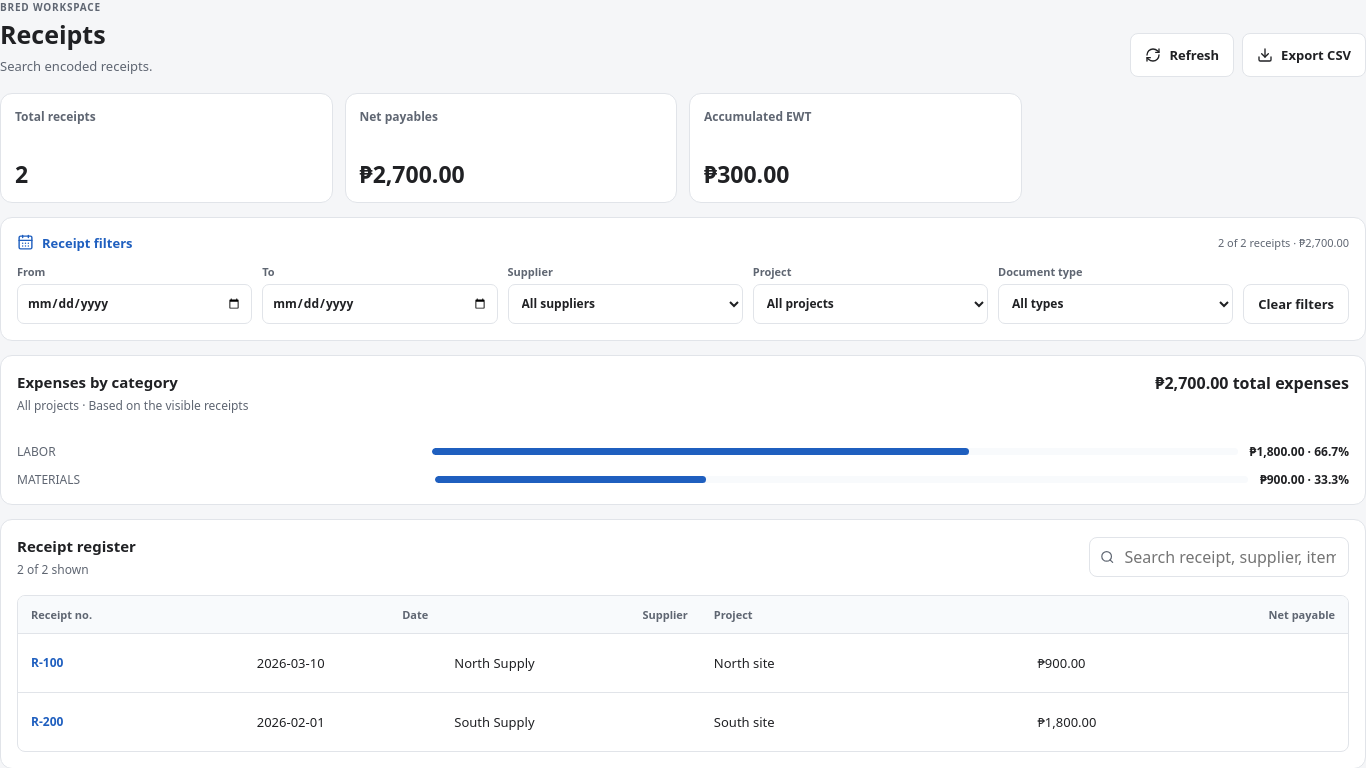
Test: ModuleWorkspace › filters receipts by date and supplier and opens real receipt details
Expected: the button named "View receipt R-100" is shown, x1=31 y1=645 x2=63 y2=681
Expected: the button named "View receipt R-200" is shown, x1=31 y1=704 x2=63 y2=740
Type "2026-03-01" into the date field named "Receipt date from" at (135,304), box x1=17 y1=284 x2=252 y2=324
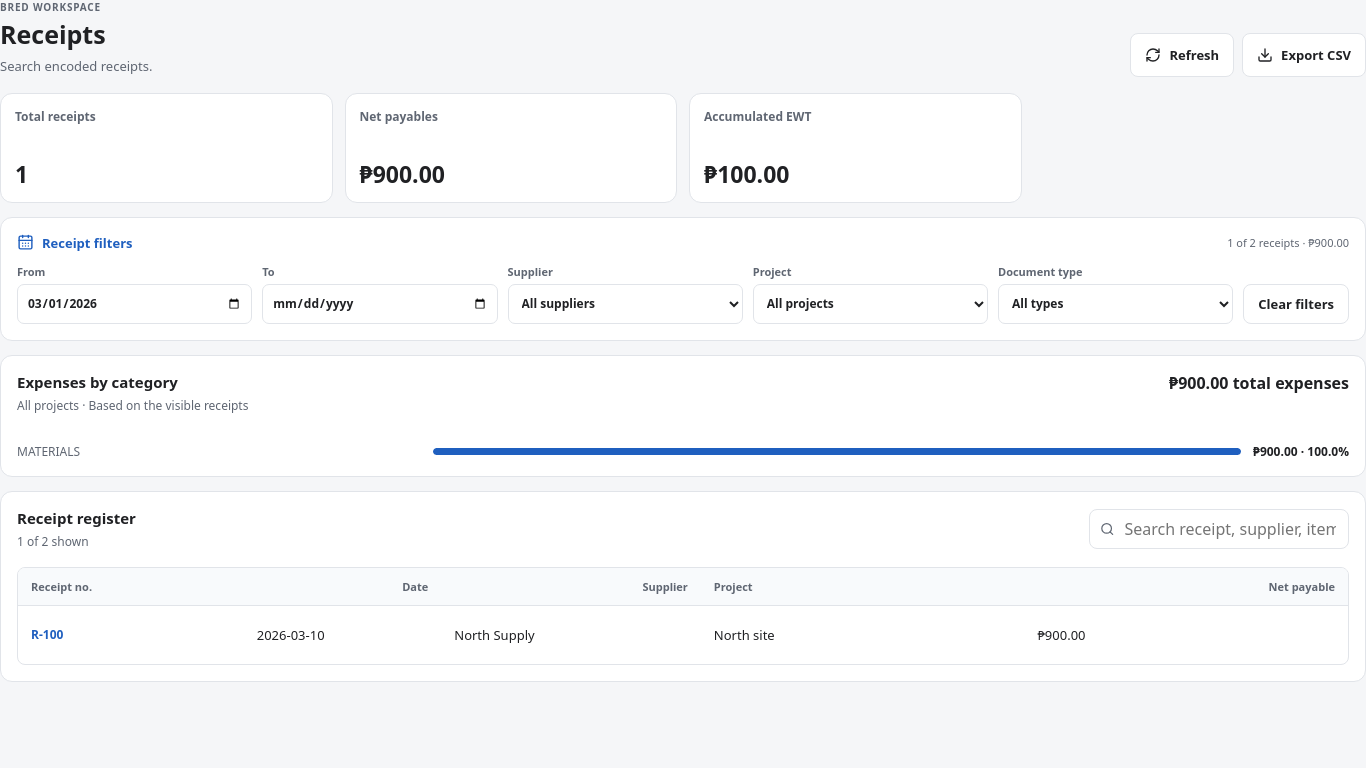
Select "North Supply" in the dropdown named "Filter by supplier" at (625,304), box x1=508 y1=284 x2=743 y2=324
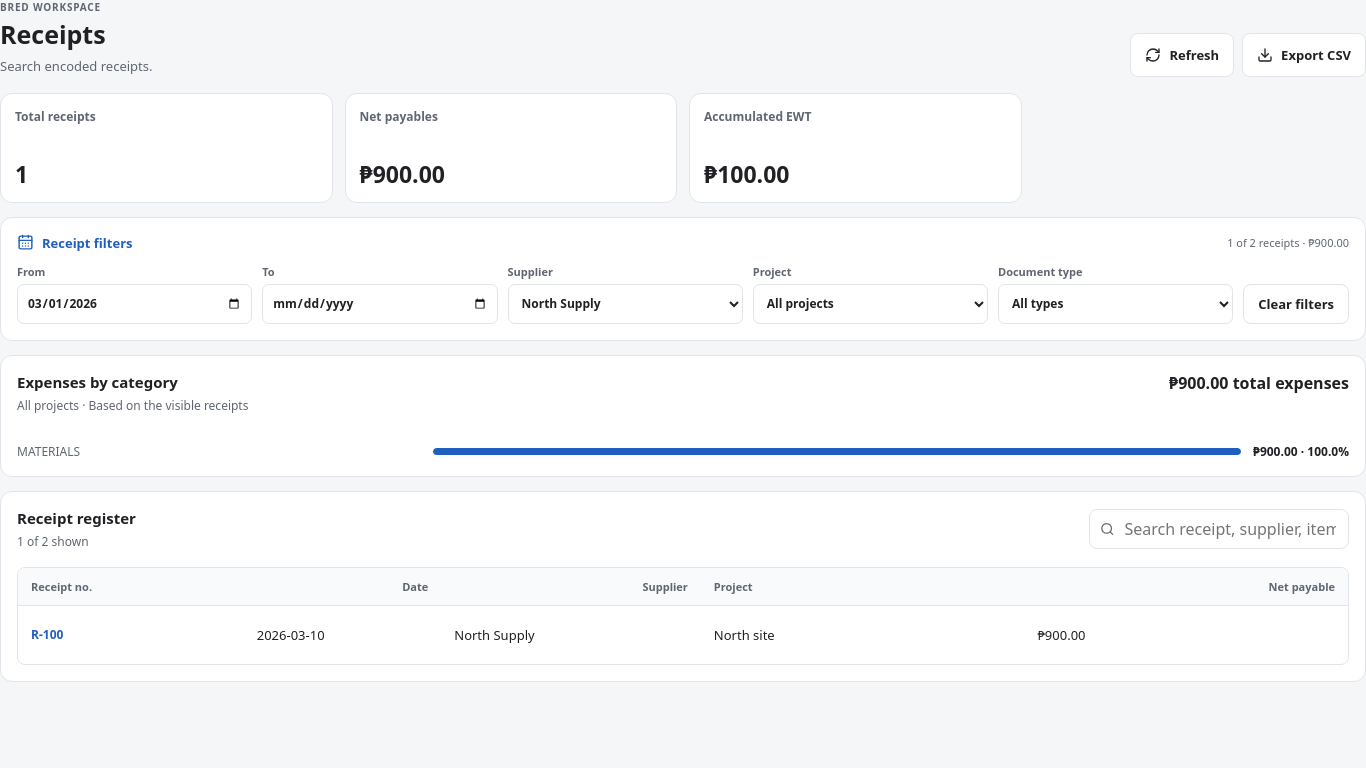
Click the button named "View receipt R-100" at (47,635), box x1=31 y1=617 x2=63 y2=653
(page scrolled)
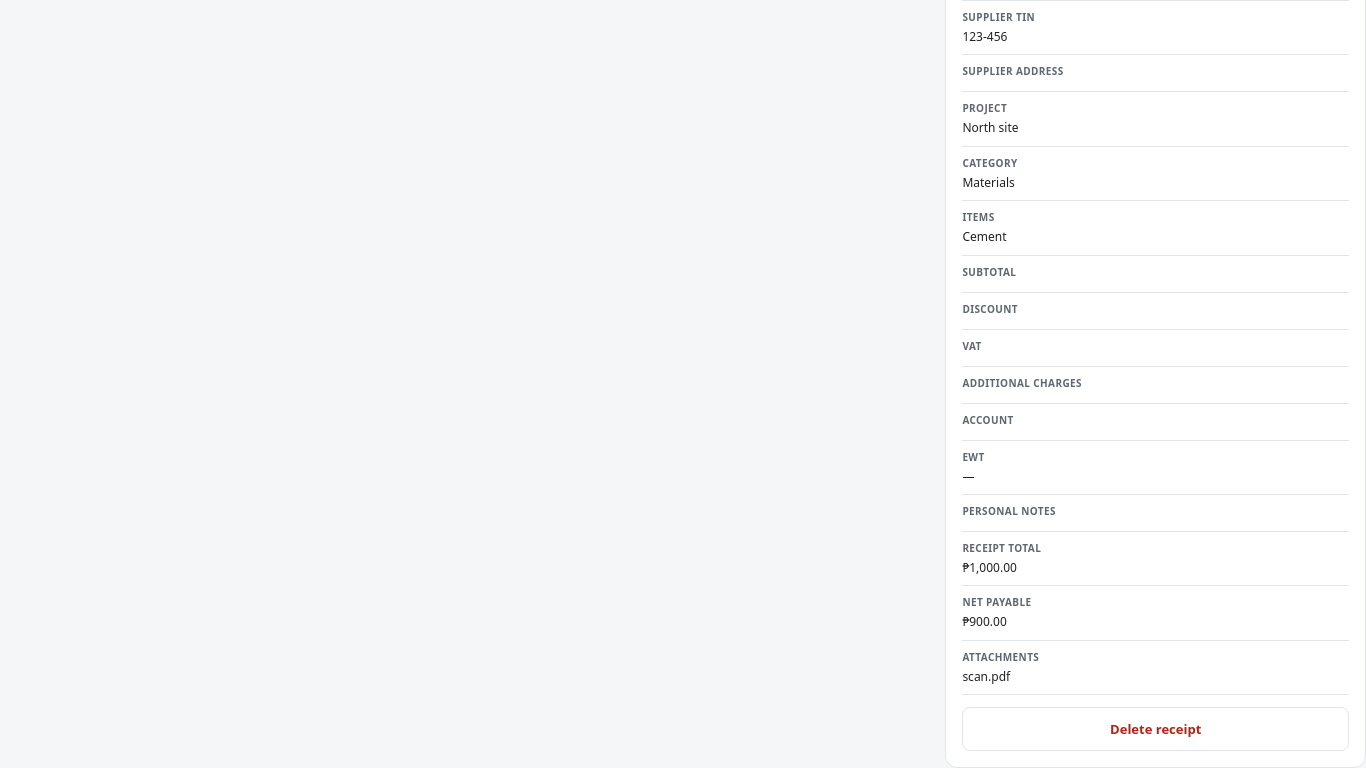
Expected: the text "Cement" is shown, x1=962 y1=228 x2=1006 y2=245
Expected: the text "scan.pdf" is shown, x1=962 y1=668 x2=1010 y2=685
